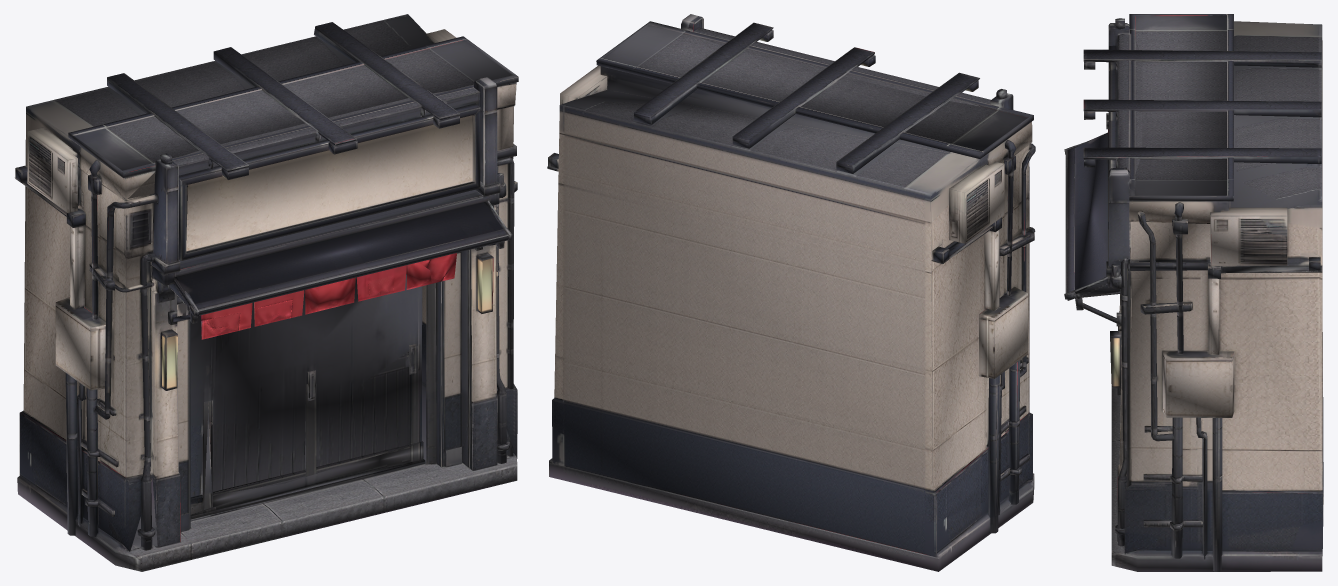
File: japanese_shop_facade_low.glb
The picture shows the model from 3 angles, left to right: view 1: azimuth 30°, elevation 25°; view 2: azimuth 150°, elevation 25°; view 3: azimuth 270°, elevation 25°; orthographic projection. The views are drawn at different scales.
Bounding box in the file's own units: 0.9517 × 0.8823 × 0.5381.
Materials: 1 (1 with a texture image).
